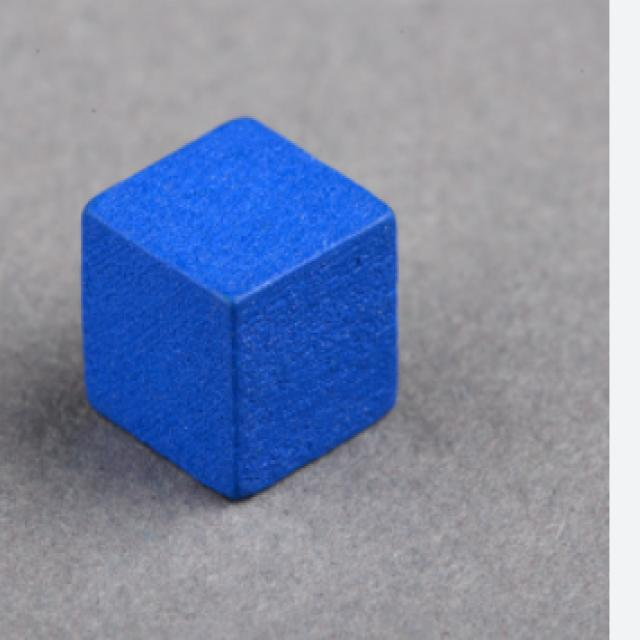bluecube: (79, 112, 400, 504)
